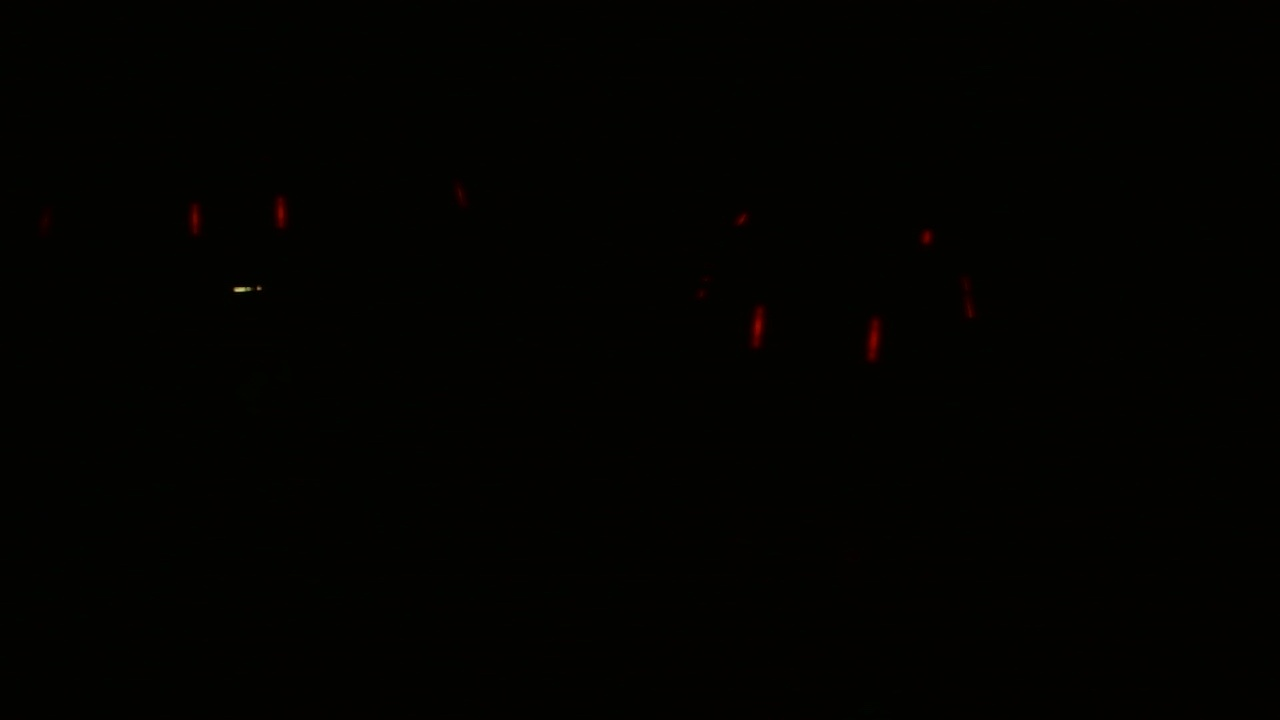pair1: (180, 185, 300, 243)
pair2: (732, 299, 895, 374)
